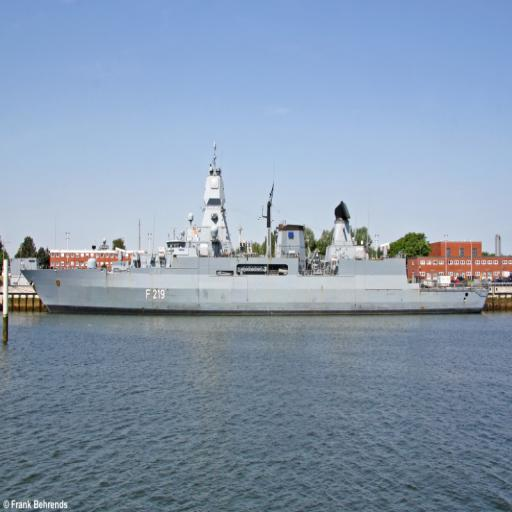Fragata: (19, 138, 494, 317)
